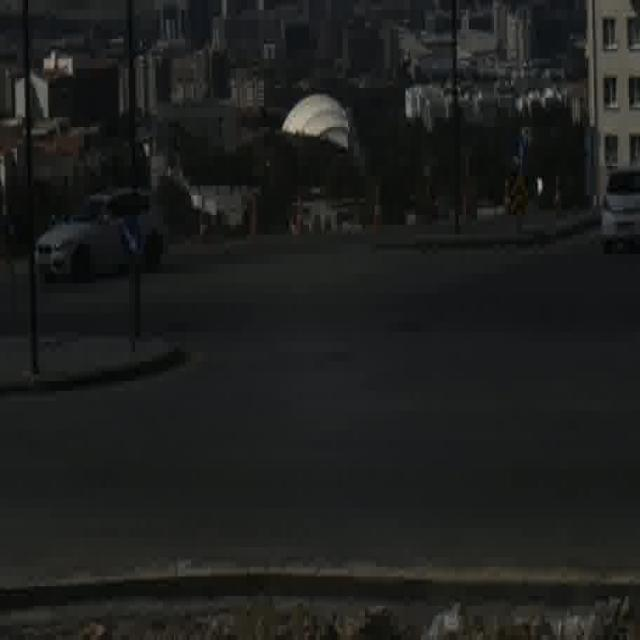Car: (35, 184, 166, 276), (597, 164, 640, 251)
